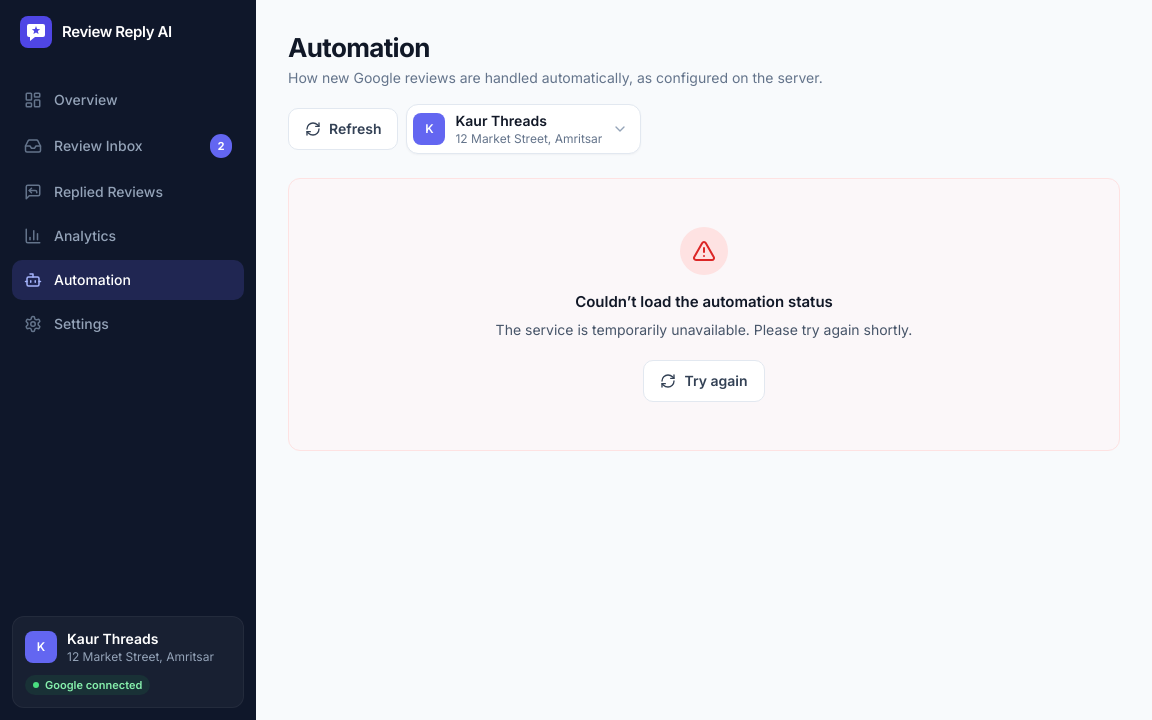
Automation › reports a load failure with a retry
Expected: the heading "Couldn’t load the automation status" is shown, [575,291,833,314]
Step 1. Click the button "Try again" → (704, 380), box [644,360,765,402]
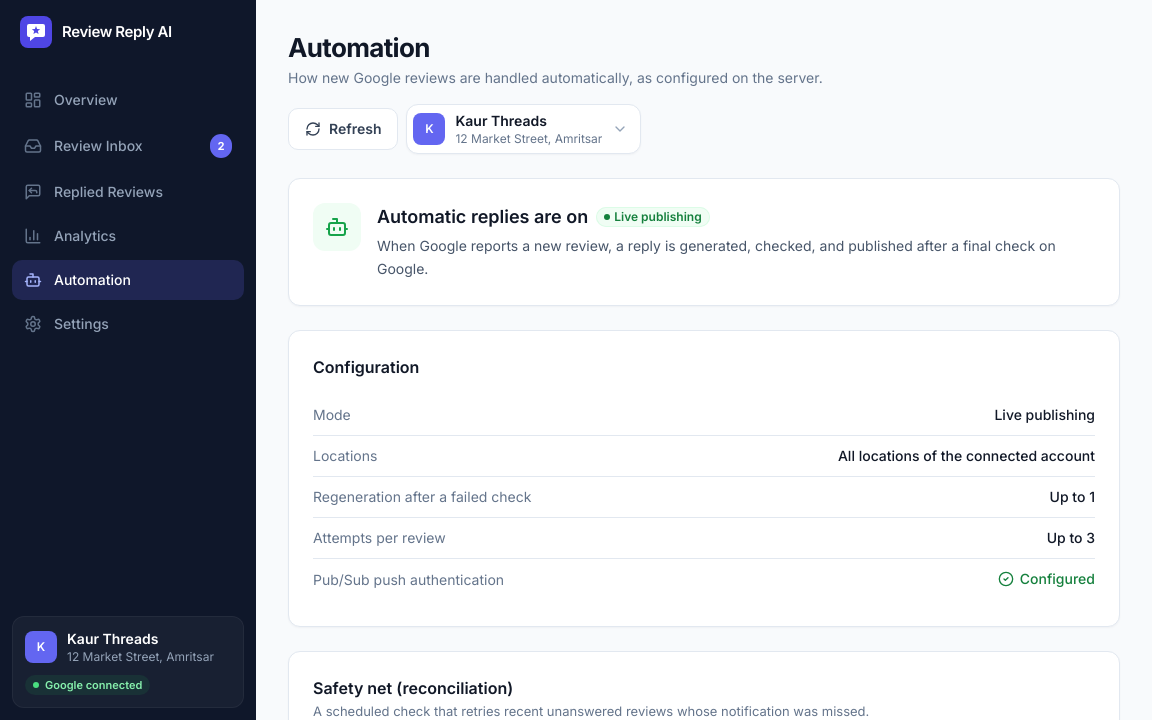
Expected: the heading "Automatic replies are on" is shown, [377,203,588,231]
